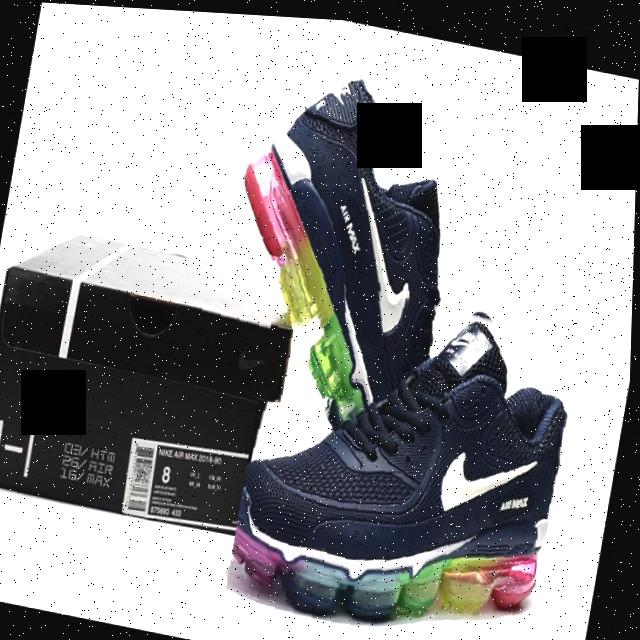shoe: (226, 260, 625, 640), (173, 9, 490, 445)
